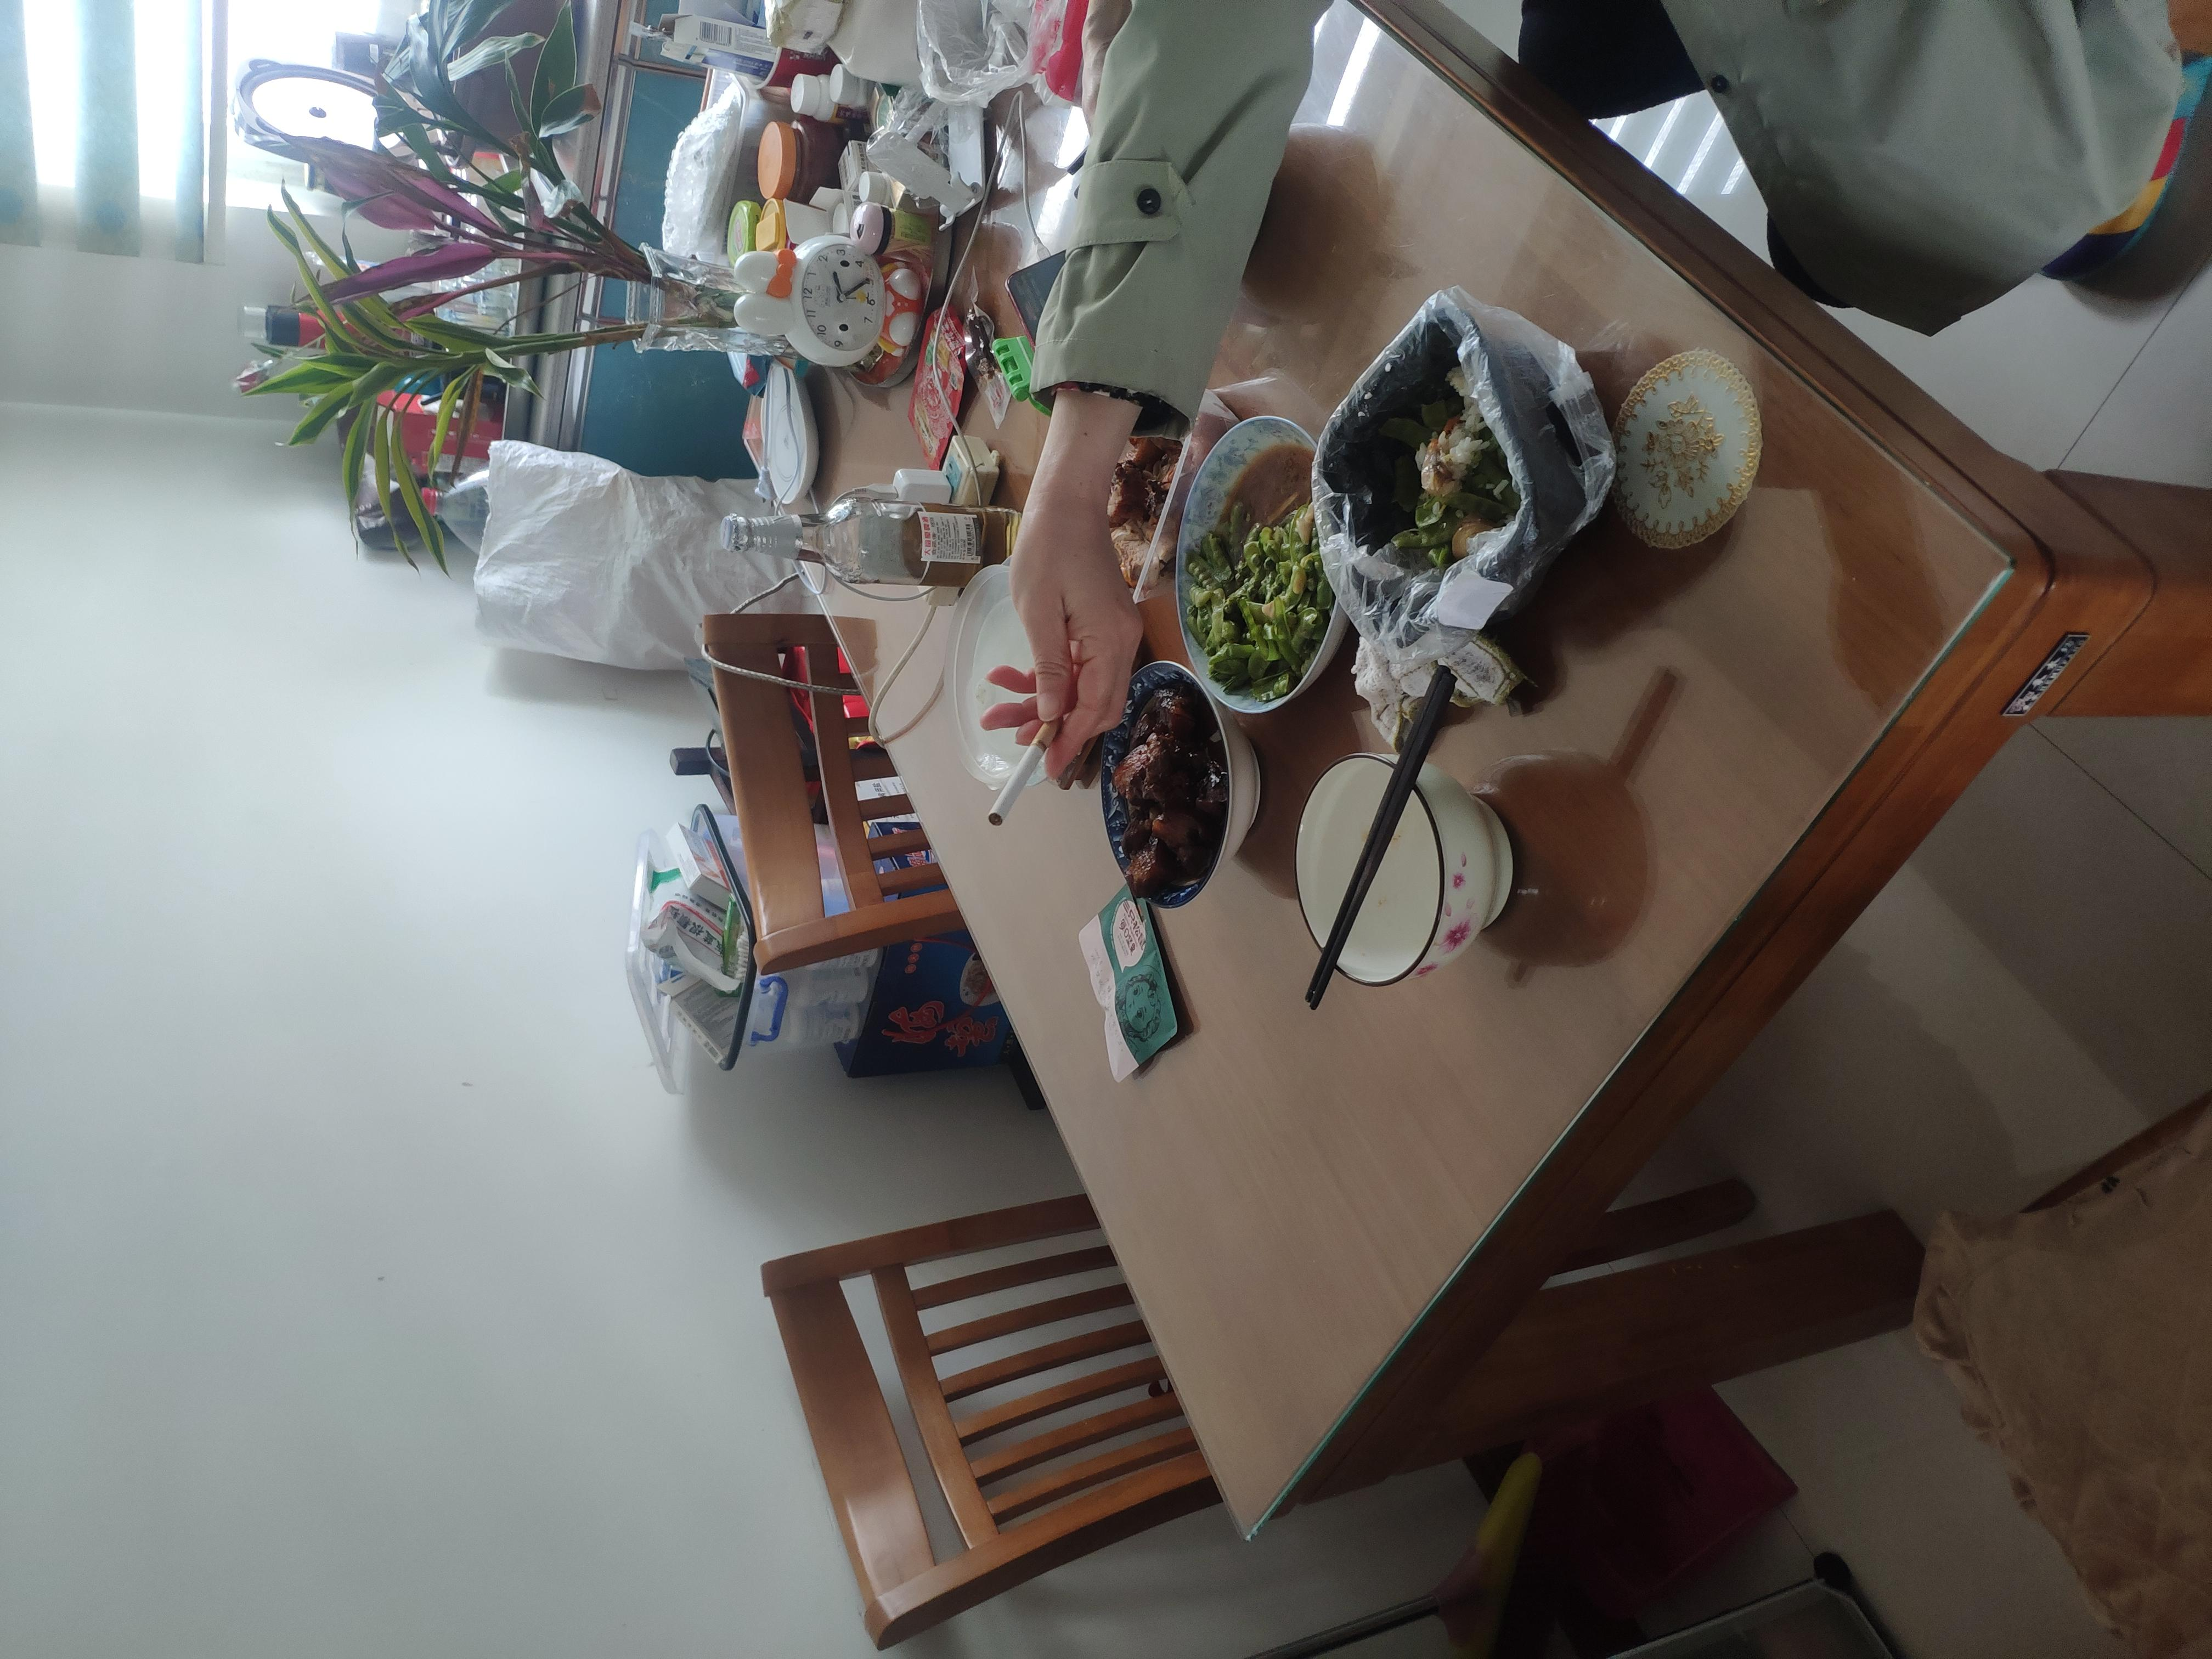smoke: (1109, 741, 1263, 796)
